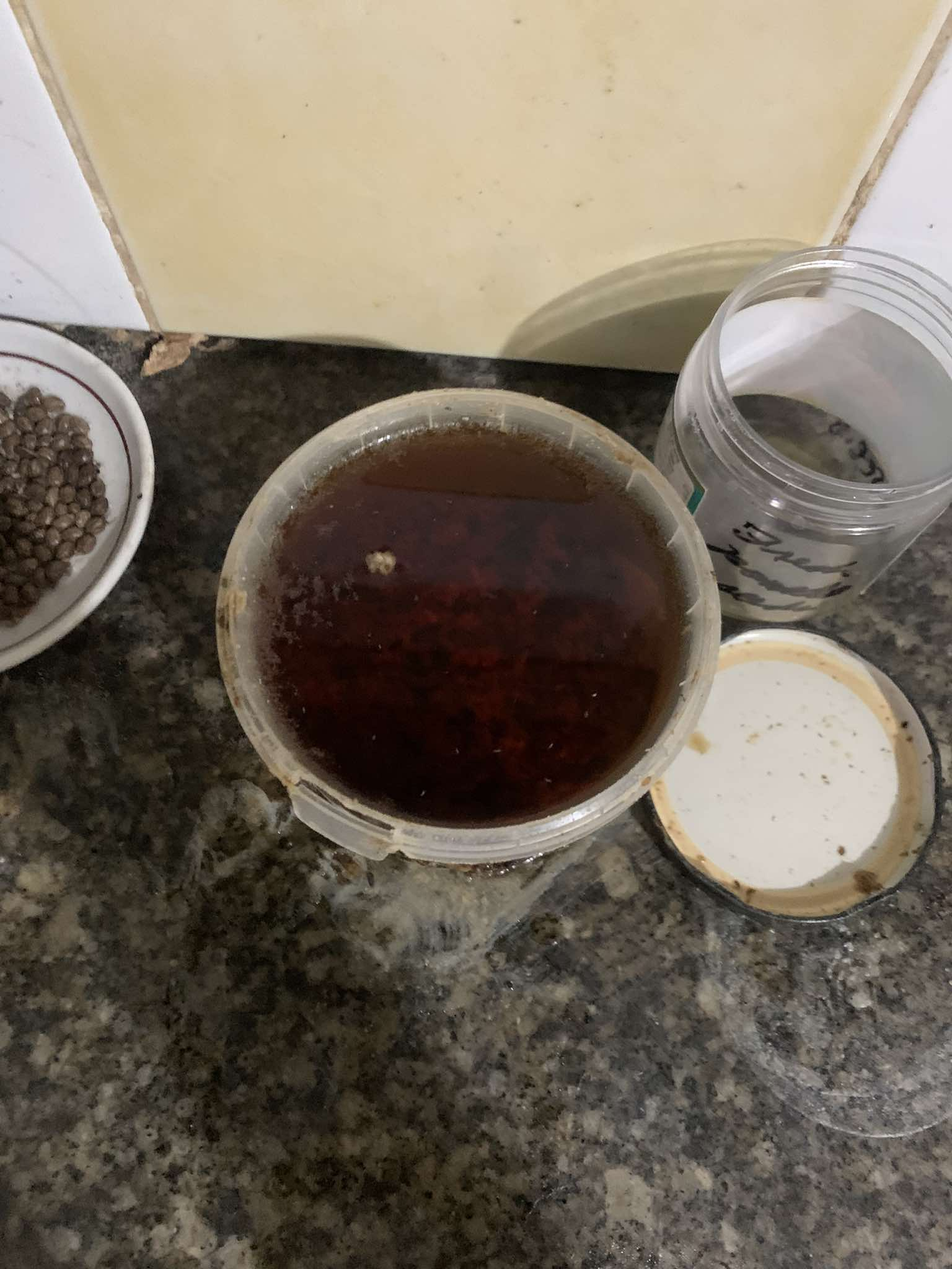non-reusable: (263, 424, 685, 827)
